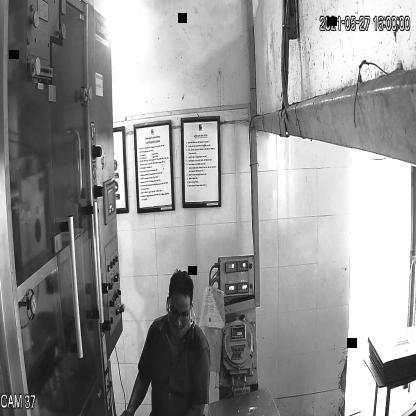goggles: (166, 299, 196, 327)
